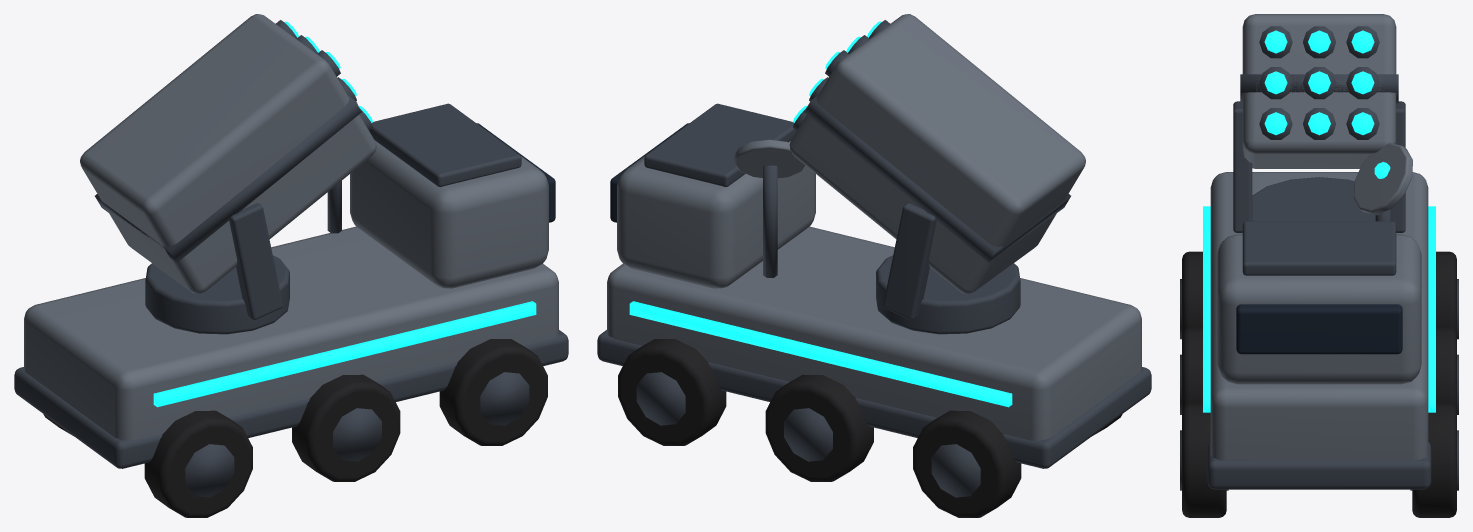
File: rocket_launcher.glb
The picture shows the model from 3 angles, left to right: view 1: azimuth 30°, elevation 25°; view 2: azimuth 150°, elevation 25°; view 3: azimuth 270°, elevation 25°; orthographic projection. The views are drawn at different scales.
Visible parts, largest first — view 1: hull; view 2: hull; view 3: hull.
Part boxes in pixels (x1=…): hull: x1=14, y1=14, x2=568, y2=517; hull: x1=597, y1=14, x2=1151, y2=517; hull: x1=1180, y1=14, x2=1458, y2=517.
Bounding box in the file's own units: 0.43 × 0.3626 × 0.218.
Materials: 2 (1 with a texture image).
